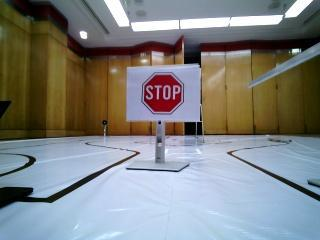stop: (136, 69, 192, 117)
